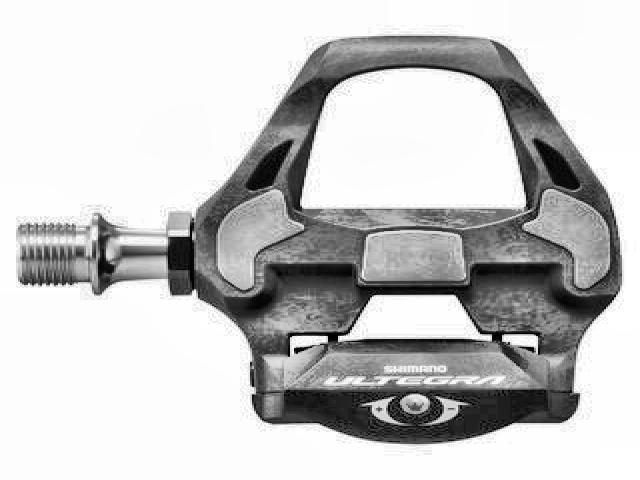pedal: (11, 34, 624, 450)
